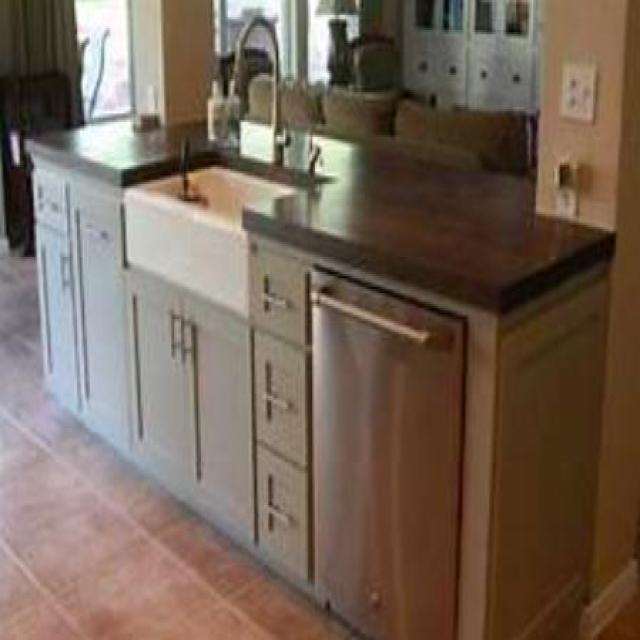dishwasher: (308, 261, 465, 638)
